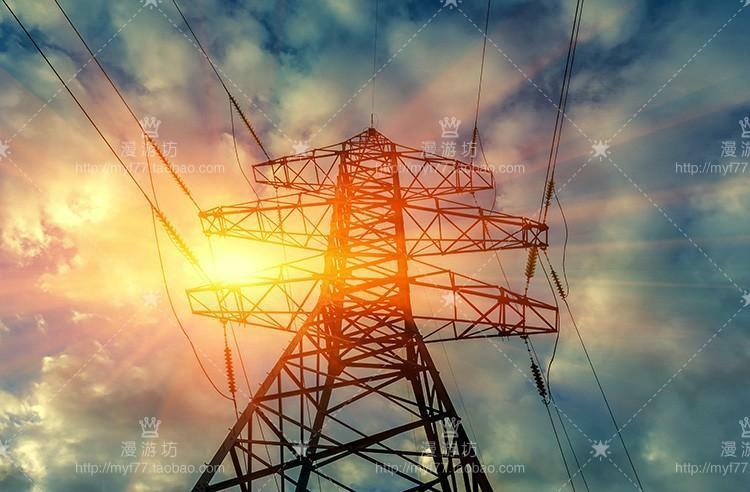power_tower: (191, 119, 564, 492)
